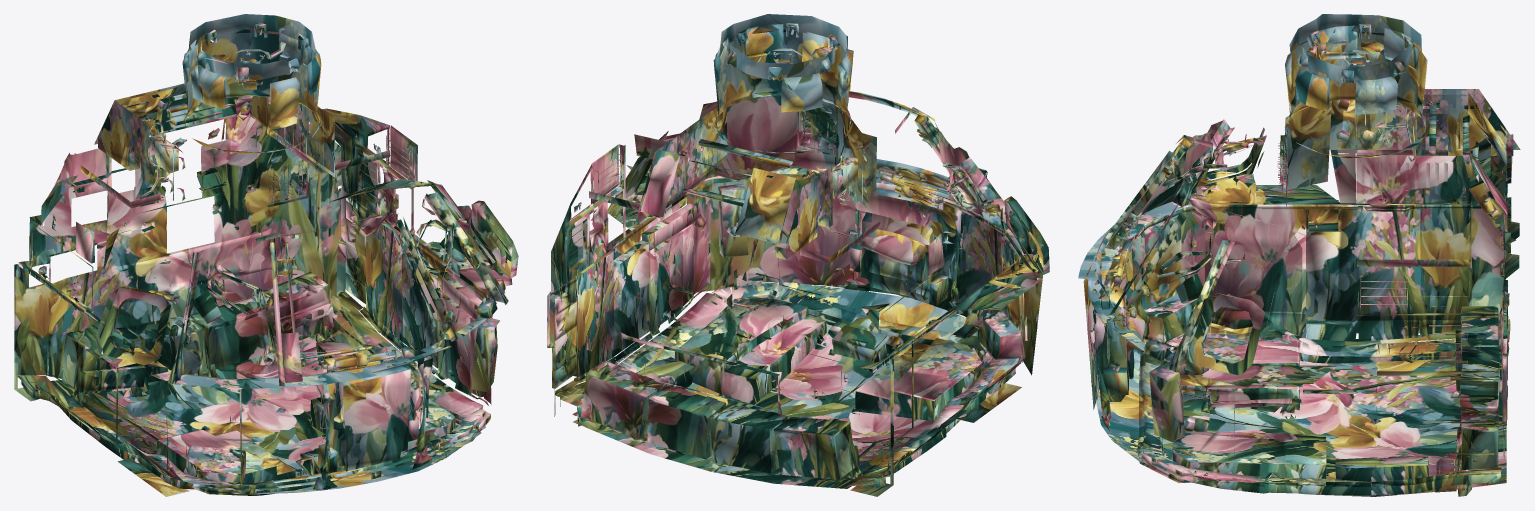
File: si_nasm_command-module-apollo-11.glb
The picture shows the model from 3 angles, left to right: view 1: azimuth 30°, elevation 25°; view 2: azimuth 150°, elevation 25°; view 3: azimuth 270°, elevation 25°; orthographic projection. The views are drawn at different scales.
Parts seen in each view (by area): view 1: A; view 2: A; view 3: A.
Part boxes in pixels (box(x1,y1,x2,y2)): A: box(14, 14, 518, 496); A: box(547, 14, 1049, 496); A: box(1078, 14, 1520, 496).
Bounding box in the file's own units: 2 × 1.8 × 1.78.
1 material, 1 textured.
